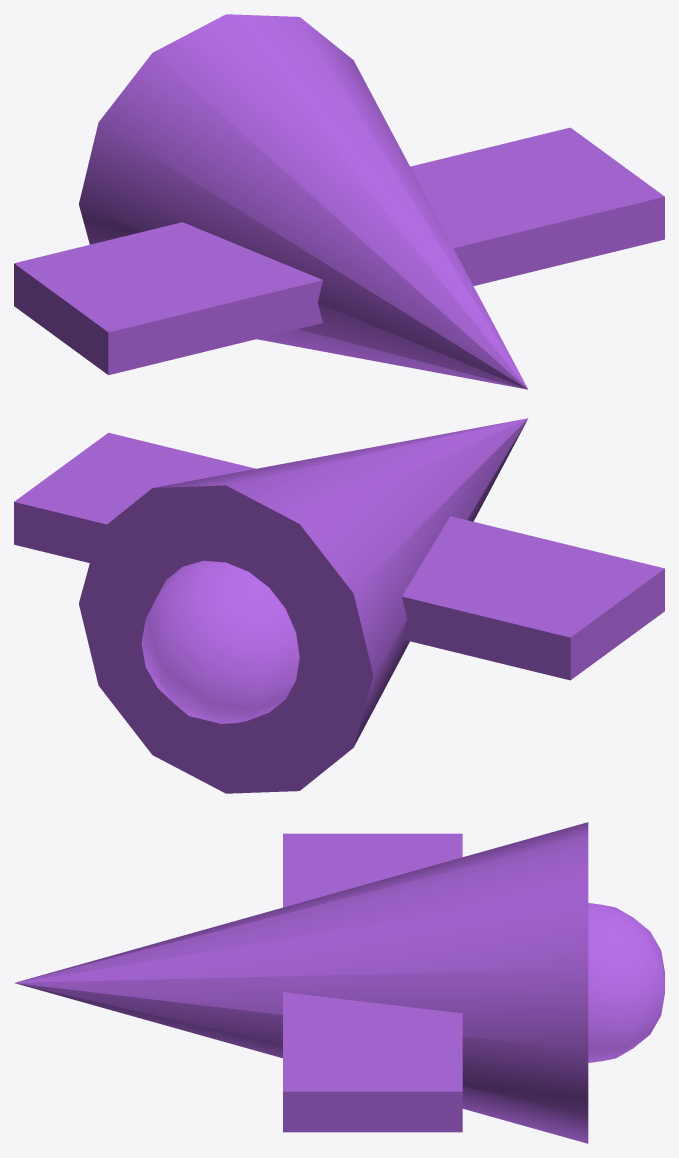
The model's file is heavy.glb.
3 views of the same model, one above another, from view 1: azimuth 30°, elevation 25°; view 2: azimuth 150°, elevation 25°; view 3: azimuth 270°, elevation 25° (orthographic). The views are drawn at different scales.
Bounding box in the file's own units: 3.4 × 1.8 × 3.63.
